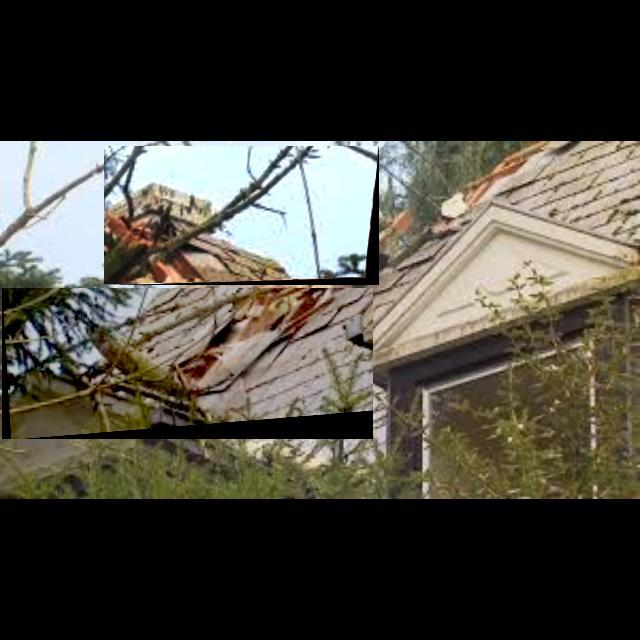fallen_tree: (2, 288, 374, 440), (104, 146, 380, 286)
